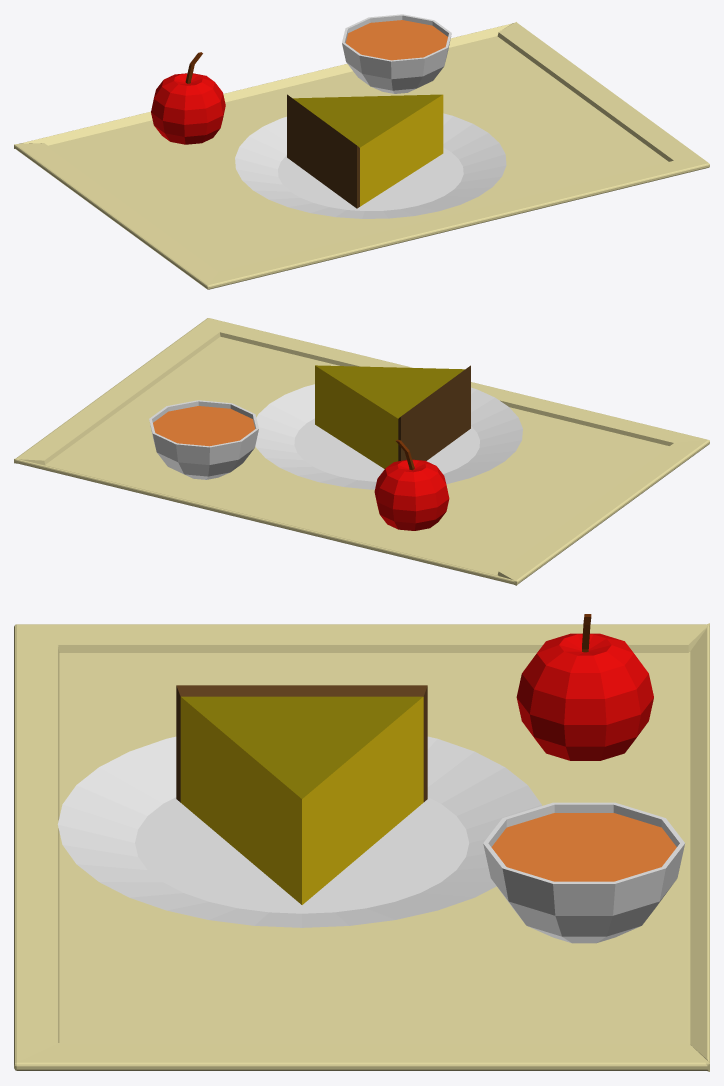
File: Plateau.glb
The picture shows the model from 3 angles, top to bottom: view 1: azimuth 30°, elevation 25°; view 2: azimuth 150°, elevation 25°; view 3: azimuth 270°, elevation 25°; orthographic projection. The views are drawn at different scales.
Parts seen in each view (by area): view 1: Plateau; view 2: Plateau; view 3: Plateau.
Boxes of the visible parts, <box> form: Plateau: <box>14,14,709,289</box>; Plateau: <box>14,318,709,585</box>; Plateau: <box>14,614,709,1071</box>.
Size of the model in its own units: 5.8 by 0.9196 by 3.87.
